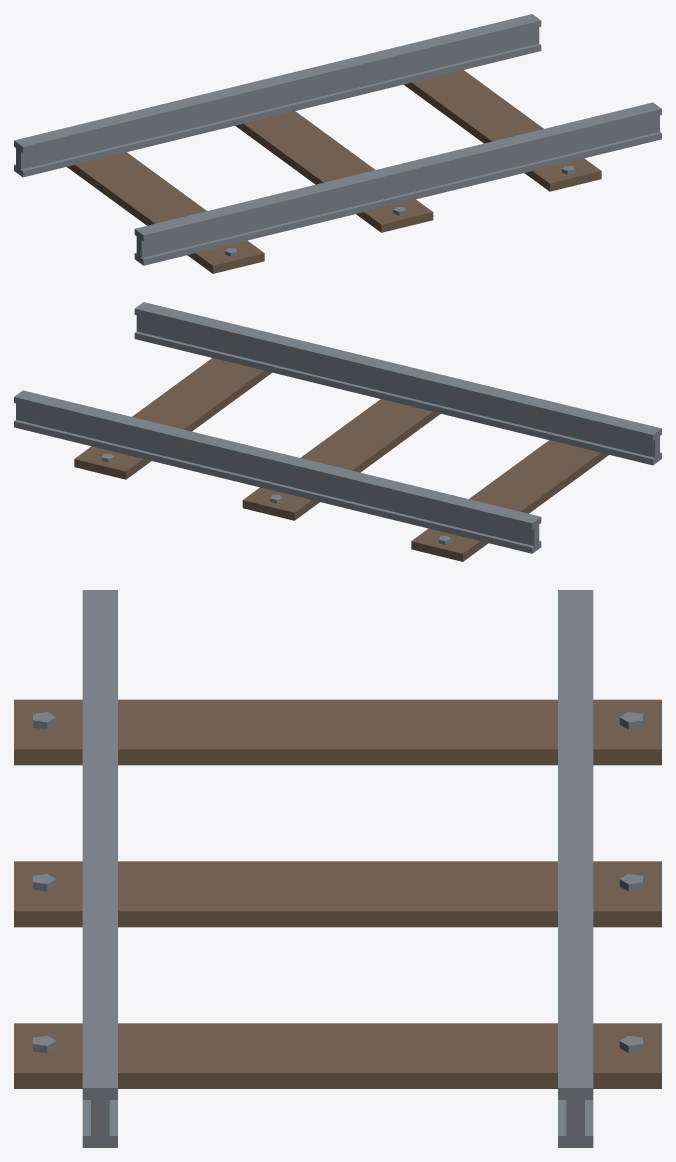
File: Track_Straight.fbx
The picture shows the model from 3 angles, top to bottom: view 1: azimuth 30°, elevation 25°; view 2: azimuth 150°, elevation 25°; view 3: azimuth 270°, elevation 25°; orthographic projection. The views are drawn at different scales.
Parts seen in each view (by area): view 1: Track_Straight; view 2: Track_Straight; view 3: Track_Straight.
Part boxes in pixels (x1,y1,x2,y2): Track_Straight: [14, 14, 661, 273]; Track_Straight: [14, 302, 661, 561]; Track_Straight: [14, 590, 661, 1147].
Bounding box in the file's own units: 200 × 14.18 × 110.
